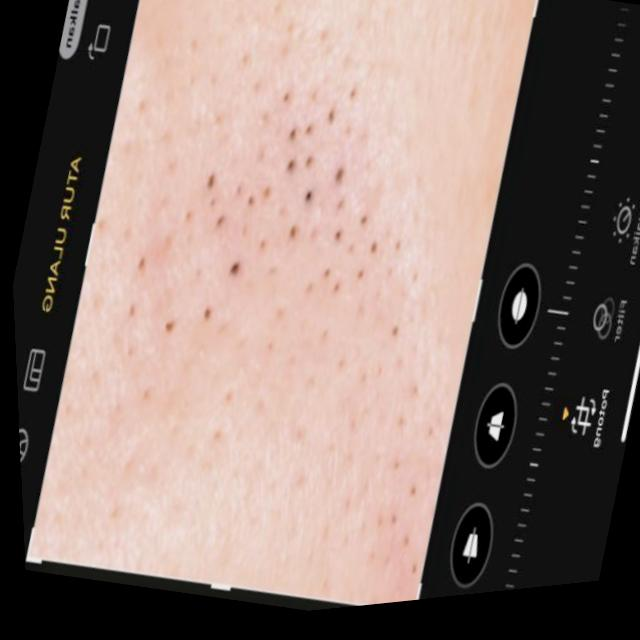blackhead: (116, 14, 408, 398)
